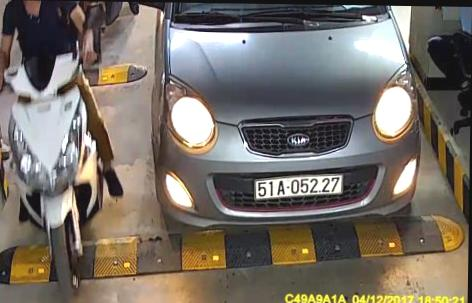License_Plate: (253, 172, 340, 199)
